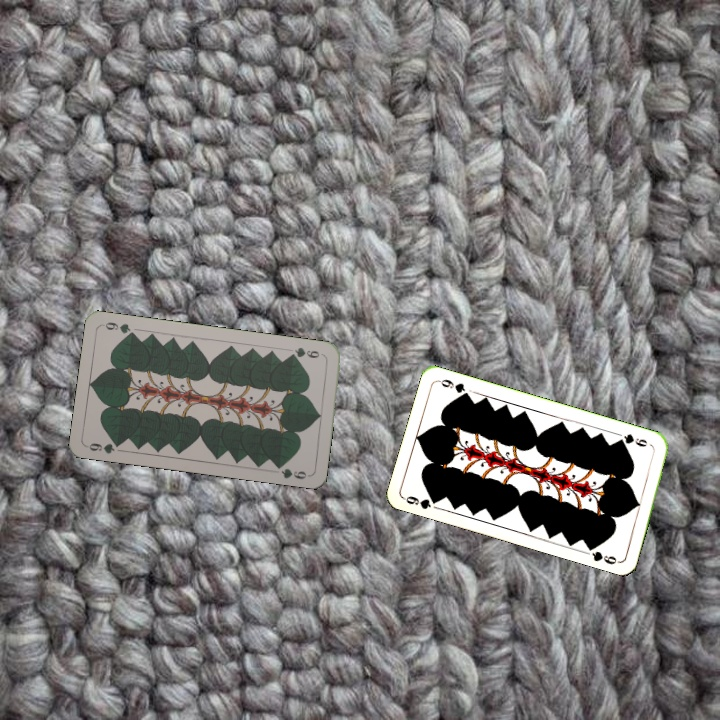G9: (400, 492, 442, 512), (614, 430, 655, 450), (285, 343, 327, 361), (83, 438, 125, 456)
